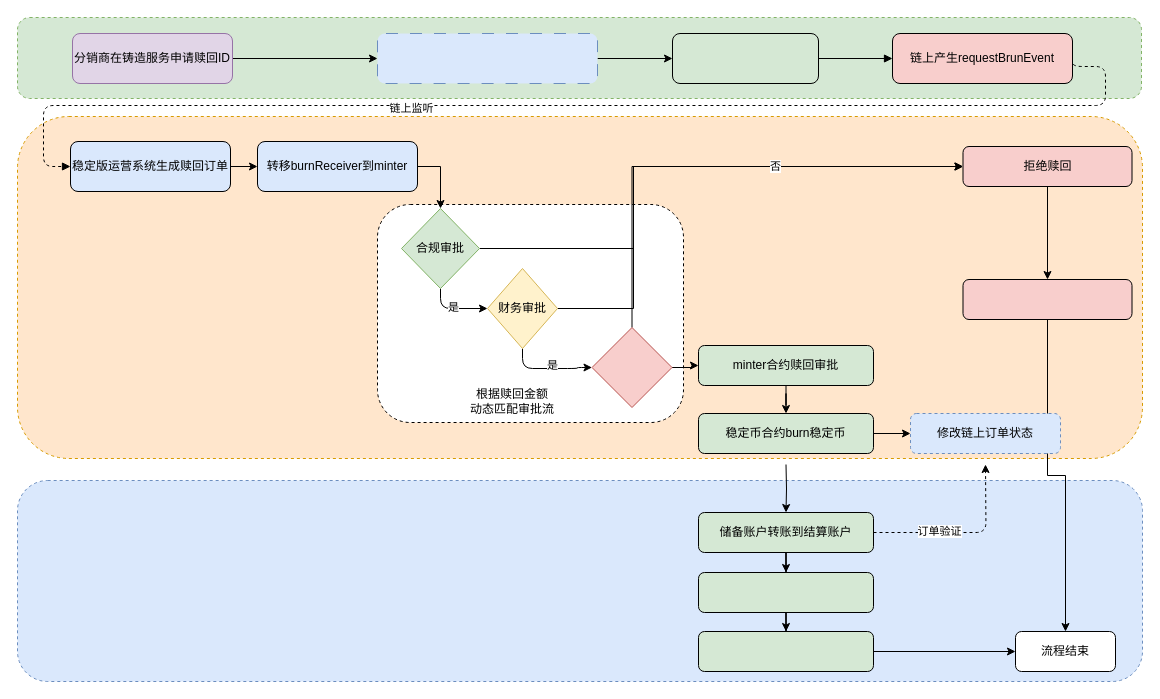
Some shapes in this 1160 by 699 pixel diagram are drawn without their labels. Each missing label, with the centre of its shape:
"burnReceiver账号授权 minterContract合约赎回额度的稳定币" belongs at point (487, 58).
"异常处理/稳定币退回" belongs at point (1047, 299).
"机构发起burnRequest" belongs at point (745, 58).
"结算账户 转法币给分销商账户" belongs at point (786, 651).
"结算账户赎回费用扣除" belongs at point (786, 592).
"风险审批" belongs at point (631, 367).
